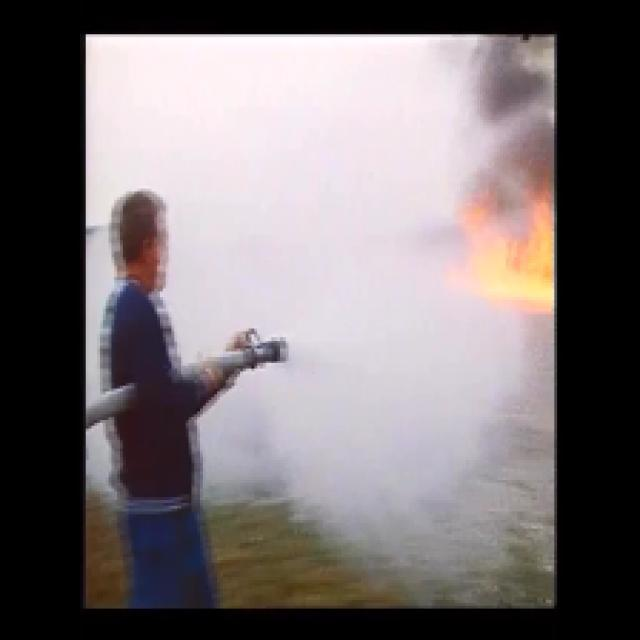Fire: (466, 200, 554, 309)
Smoke: (194, 60, 446, 323)
